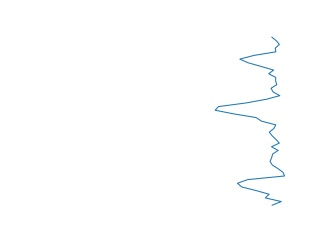underwaterNaturalLevee: (209, 35, 289, 210)
